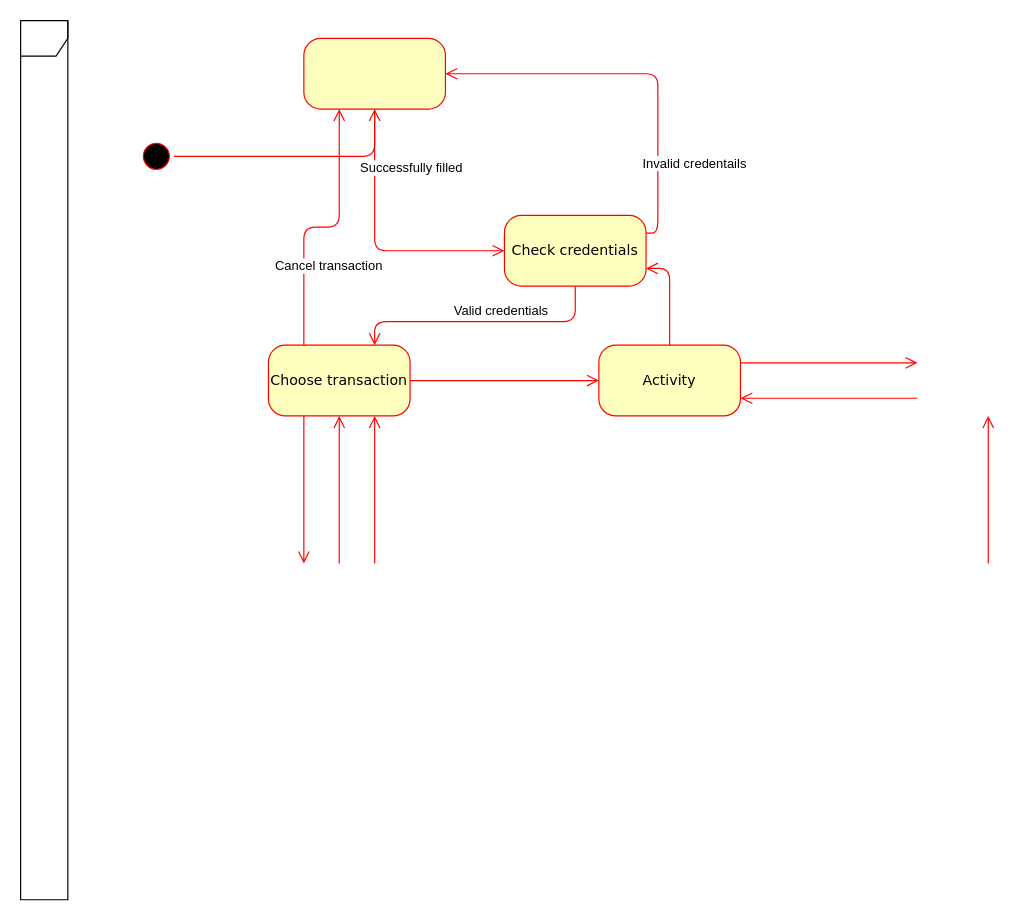
Image size: 1021x920. Some labels were removed from this diagram. The shapes that lost their labels are listed below. From the top down, each one's box as (x1, y1, x2, y2) in pixels, then its label:
(303, 37, 445, 109): Fill donation form
(19, 19, 68, 900): frame
